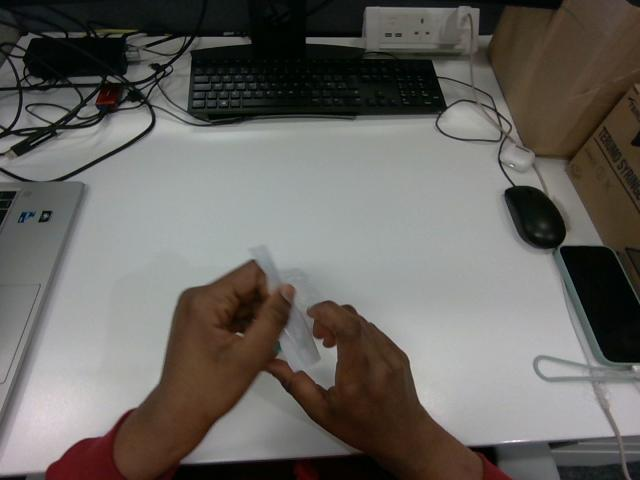gallipot: (279, 304, 319, 370)
